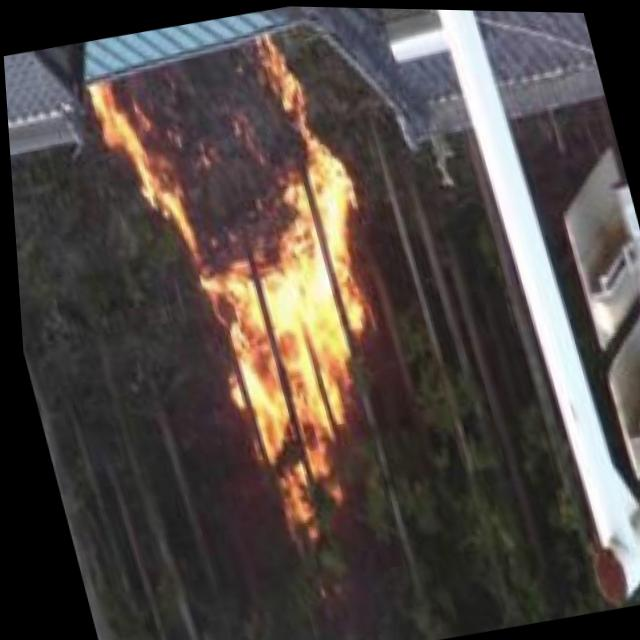Fire: (83, 32, 428, 544)
